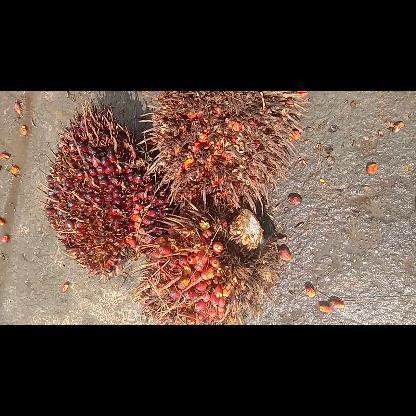TBS masak: (36, 98, 171, 280), (129, 196, 281, 324)
Terlalu masak: (137, 91, 307, 213)
